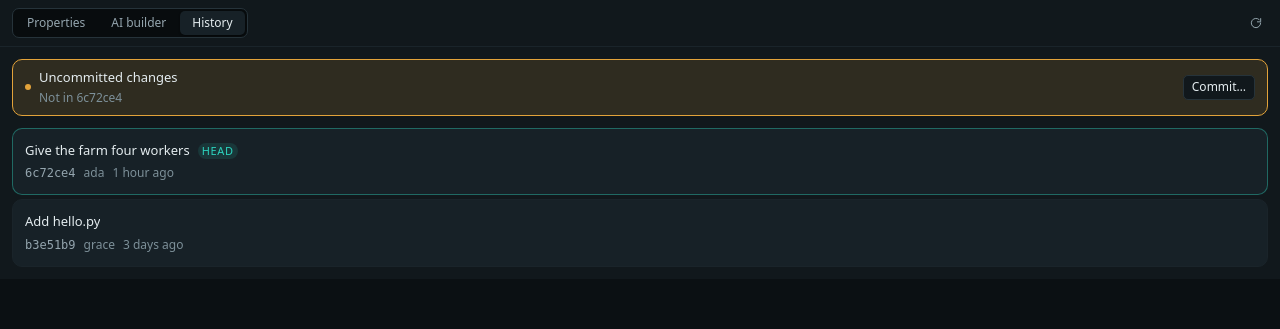
Test: the History tab › shows one version against the file as it is now
Click the button "Add hello.py b3e51b9 grace 3 days ago" at {"x": 63, "y": 221}, box x1=12 y1=199 x2=1268 y2=266
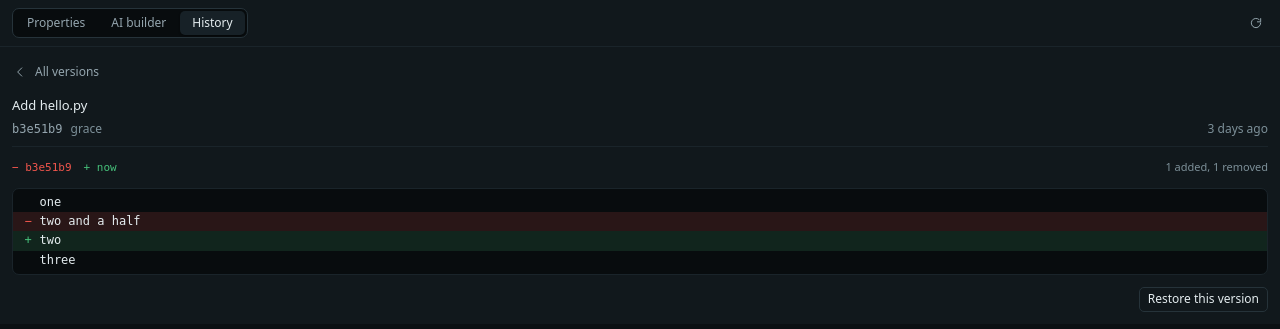
Check: the text "two and a half" is shown, box x1=39 y1=214 x2=141 y2=228
Check: the text "two" is shown, box x1=39 y1=233 x2=61 y2=247
Check: the text "1 added, 1 removed" is shown, box x1=1165 y1=158 x2=1268 y2=175
